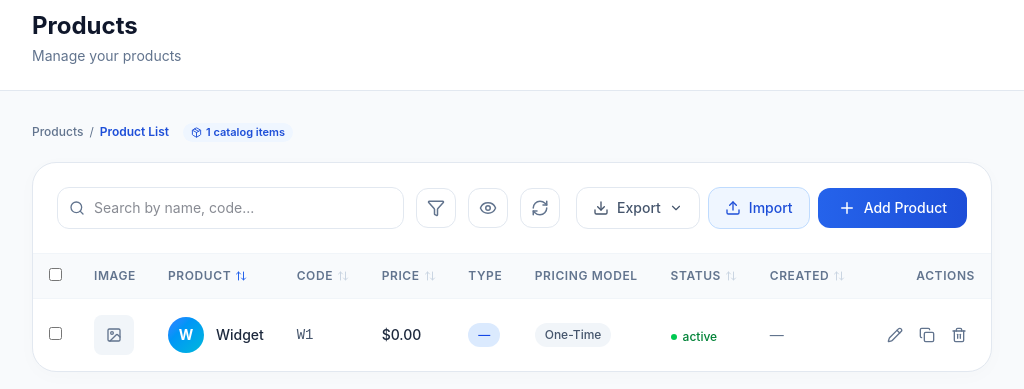
Test: BUG-12.2 Products — Clear filters › sends exactly one unfiltered page-1 request
The image size is (1024, 389).
Step 1. Type "zzz" into the field labelled "Search by name, code" → (231, 208), box x1=57 y1=187 x2=404 y2=229
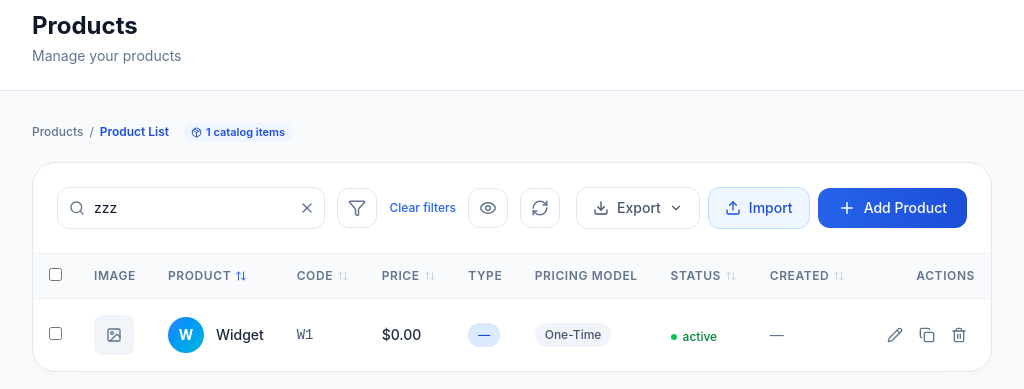
Step 2. Click the button "Clear filters" → (423, 208), box x1=390 y1=200 x2=456 y2=216
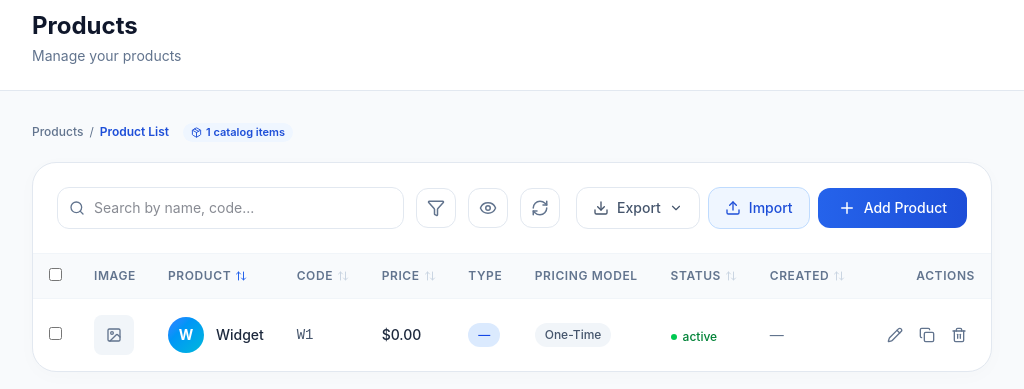
Expected: the field labelled "Search by name, code" is empty, x1=57 y1=187 x2=404 y2=229
Expected: the button "Clear filters" is gone
